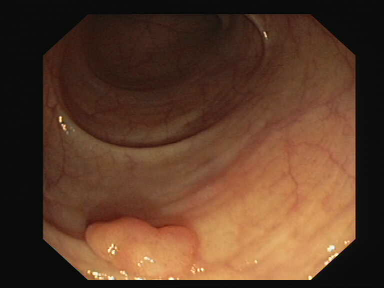polyp: (68, 203, 220, 280)
